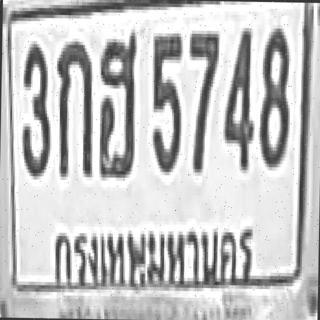A01: (55, 38, 92, 174)
A44: (96, 30, 136, 173)
N03: (20, 40, 50, 173)
N04: (222, 22, 255, 168)
N05: (150, 30, 182, 172)
N07: (187, 30, 219, 169)
N08: (258, 25, 290, 164)
P04: (44, 214, 259, 292)
